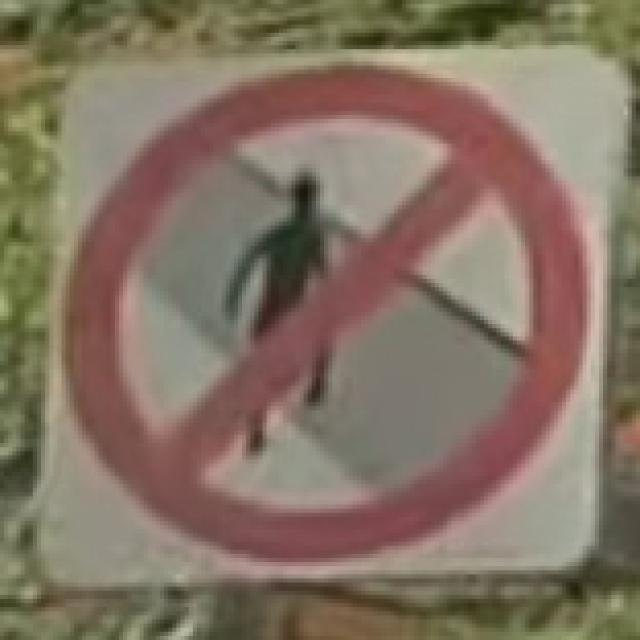nojaywalking_sign: (25, 41, 628, 591)
